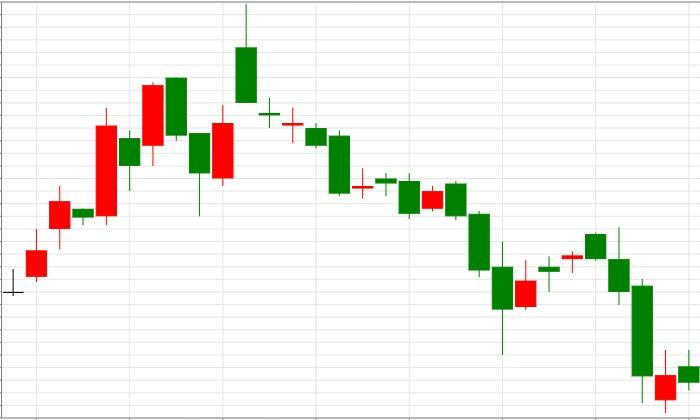three_black_crows_fall: (492, 227, 653, 403)
